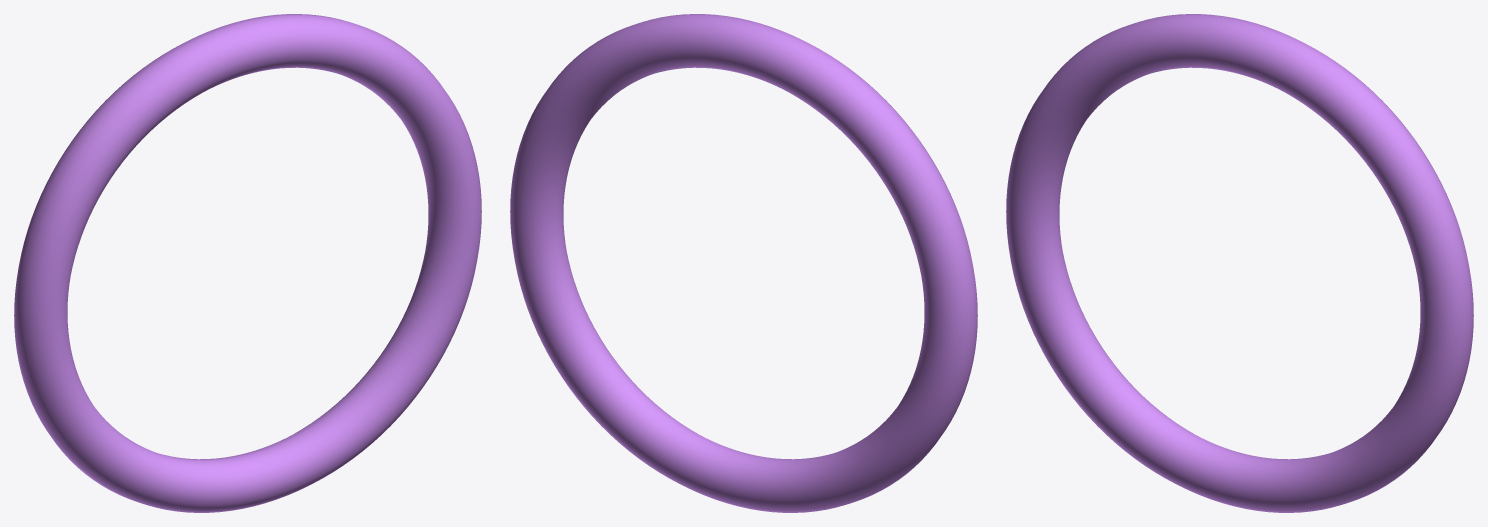
The model's file is carrier-3oMPsy9r.glb.
3 views of the same model, side by side, from view 1: azimuth 30°, elevation 25°; view 2: azimuth 150°, elevation 25°; view 3: azimuth 330°, elevation 25° (orthographic).
Parts seen in each view (by area): view 1: R3D_CarrierBody; view 2: R3D_CarrierBody; view 3: R3D_CarrierBody.
Part boxes in pixels (box(x1,y1,x2,y2)): R3D_CarrierBody: box(14, 14, 481, 512); R3D_CarrierBody: box(510, 14, 977, 512); R3D_CarrierBody: box(1006, 14, 1473, 512).
Size of the model in its own units: 1.78 by 1.78 by 0.18.
